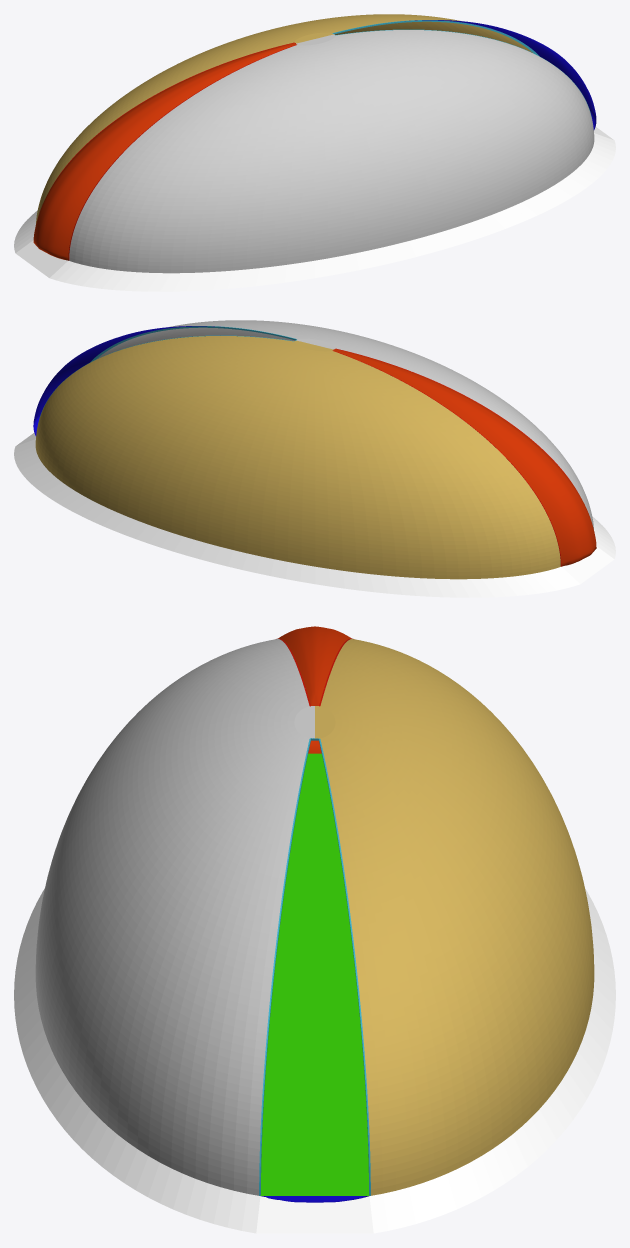
File: stadium 5.fbx
The picture shows the model from 3 angles, top to bottom: view 1: azimuth 30°, elevation 25°; view 2: azimuth 150°, elevation 25°; view 3: azimuth 270°, elevation 25°; orthographic projection. The views are drawn at different scales.
Visible parts, largest first — view 1: dome, socle, redGoal, blueGoal, blueGoalLimits, redGoalLimits; view 2: dome, socle, redGoal, blueGoal, blueGoalLimits, redGoalLimits; view 3: dome, socle, redGoal, blueGoalLimits.
Part boxes in pixels (x1,y1,x2,y2): dome: (36, 14, 594, 273); socle: (14, 127, 615, 291); redGoal: (33, 43, 296, 260); blueGoal: (409, 20, 596, 129); blueGoalLimits: (332, 20, 592, 119); redGoalLimits: (49, 42, 296, 260); dome: (35, 320, 593, 579); socle: (14, 433, 615, 597); redGoal: (333, 349, 596, 566); blueGoal: (33, 326, 220, 435); blueGoalLimits: (37, 326, 296, 425); redGoalLimits: (332, 348, 578, 566); dome: (35, 639, 594, 1195); socle: (14, 753, 615, 1233); redGoal: (278, 626, 351, 753); blueGoalLimits: (259, 738, 370, 1195).
Bounding box in the file's own units: 21.02 × 5.61 × 11.22.
